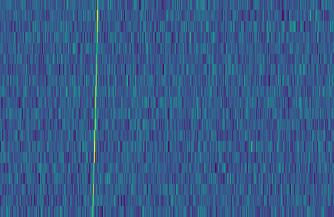signal: (85, 0, 100, 217)
